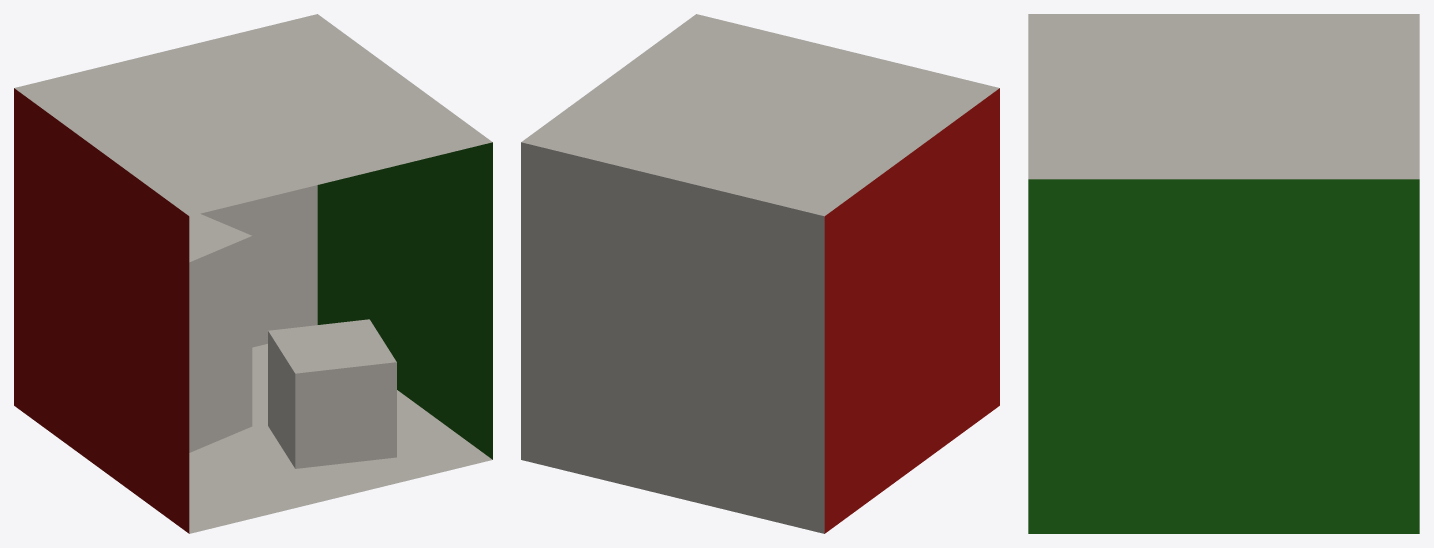
File: cornell_box.obj
3 renders of one model, left to right at view 1: azimuth 30°, elevation 25°; view 2: azimuth 150°, elevation 25°; view 3: azimuth 270°, elevation 25°, orthographic. The views are drawn at different scales.
Visible parts, largest first — view 1: back, ceiling, floor, shortbox, tallbox; view 2: back, ceiling; view 3: back, ceiling.
Part boxes in pixels (x1,y1,x2,y2): back: (14, 88, 492, 533); ceiling: (14, 14, 492, 216); floor: (189, 344, 492, 533); shortbox: (268, 319, 396, 468); tallbox: (189, 214, 252, 452); back: (521, 88, 999, 533); ceiling: (521, 14, 999, 216); back: (1028, 179, 1419, 533); ceiling: (1028, 14, 1419, 179).
Size of the model in its own units: 2 by 2 by 2.
